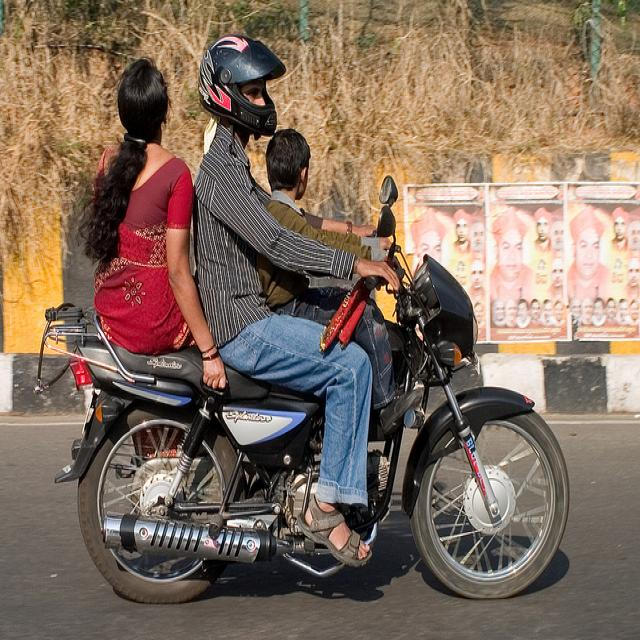motor: (33, 176, 570, 606)
